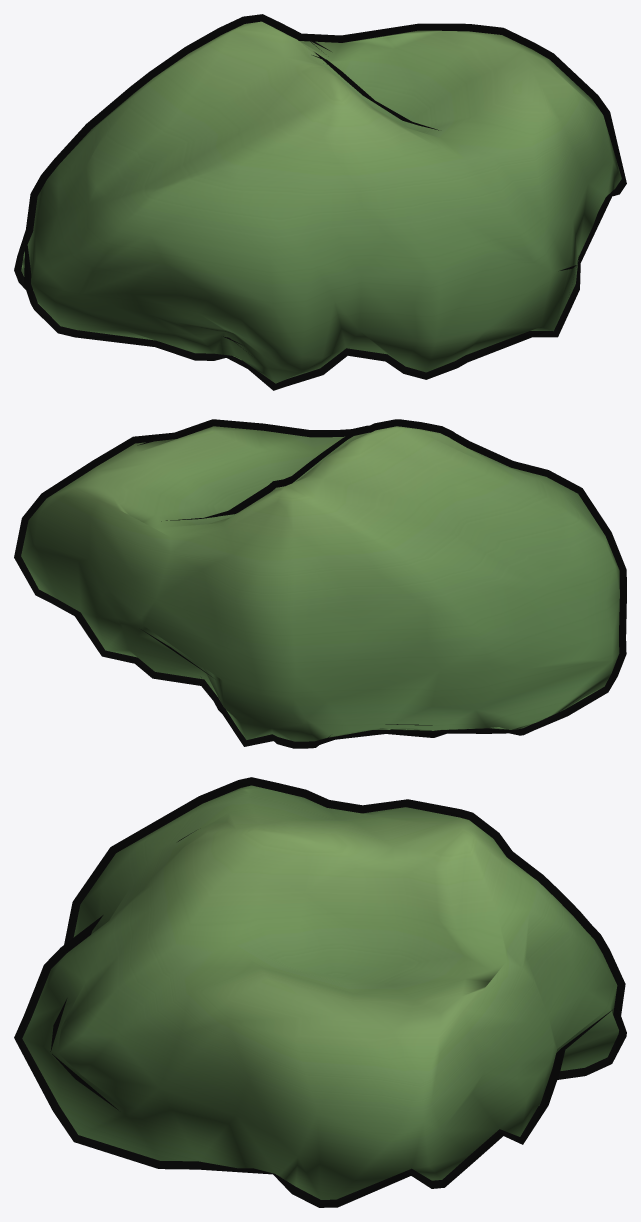
The model's file is env_medium_bush.glb.
The picture shows the model from 3 angles, top to bottom: view 1: azimuth 30°, elevation 25°; view 2: azimuth 150°, elevation 25°; view 3: azimuth 270°, elevation 25°; orthographic projection. The views are drawn at different scales.
Visible parts, largest first — view 1: Cube.012; view 2: Cube.012; view 3: Cube.012.
Part boxes in pixels (box(x1,y1,x2,y2)): Cube.012: box(14, 14, 626, 390); Cube.012: box(14, 419, 626, 748); Cube.012: box(14, 777, 626, 1207).
Size of the model in its own units: 0.7353 by 0.263 by 0.5936.
Materials: 2 (1 with a texture image).
